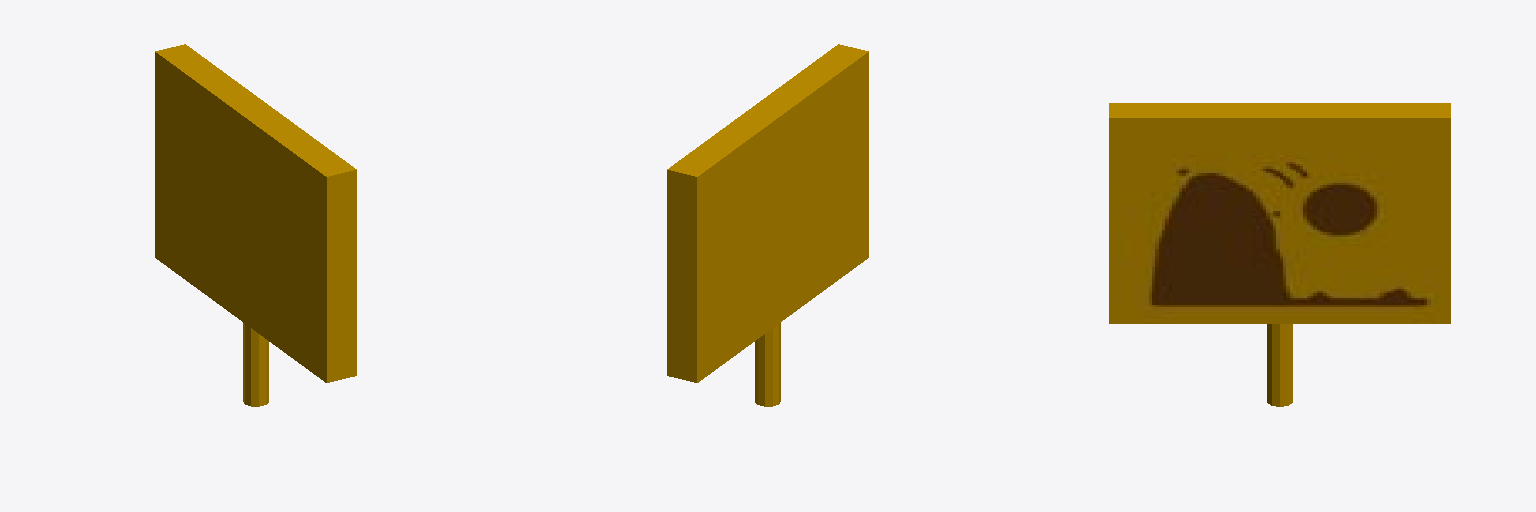
The picture shows the model from 3 angles: view 1: azimuth 30°, elevation 25°; view 2: azimuth 150°, elevation 25°; view 3: azimuth 270°, elevation 25°; orthographic projection.
Visible parts, largest first — view 1: pCylinder2 polySurface2, polySurface1 pCylinder2; view 2: pCylinder2 polySurface2, polySurface1 pCylinder2; view 3: pCylinder2 polySurface2, polySurface1 pCylinder2.
Part boxes in pixels (bbox=[...]): pCylinder2 polySurface2: bbox=[155, 44, 356, 382]; polySurface1 pCylinder2: bbox=[243, 323, 268, 406]; pCylinder2 polySurface2: bbox=[667, 44, 868, 382]; polySurface1 pCylinder2: bbox=[755, 323, 780, 406]; pCylinder2 polySurface2: bbox=[1109, 103, 1450, 323]; polySurface1 pCylinder2: bbox=[1267, 324, 1292, 406].
Bounding box in the file's own units: 0.8092 × 7.39 × 7.9.
1 materials, 1 textured.